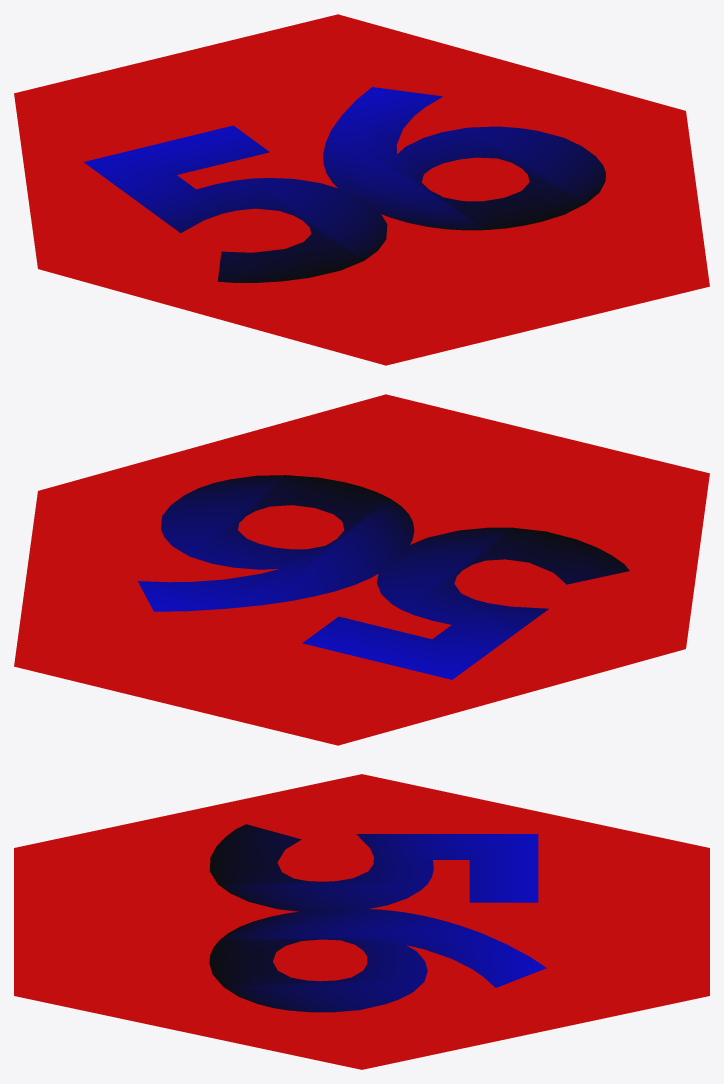
File: SM_Number_56.fbx
3 views of the same model, one above another, from view 1: azimuth 30°, elevation 25°; view 2: azimuth 150°, elevation 25°; view 3: azimuth 270°, elevation 25° (orthographic). The views are drawn at different scales.
Visible parts, largest first — view 1: FBX_OUT; view 2: FBX_OUT; view 3: FBX_OUT.
Part boxes in pixels (x1=…): FBX_OUT: x1=14, y1=14, x2=709, y2=365; FBX_OUT: x1=14, y1=394, x2=709, y2=745; FBX_OUT: x1=14, y1=774, x2=709, y2=1069.
Size of the model in its own units: 50 by 0.2917 by 49.71.
